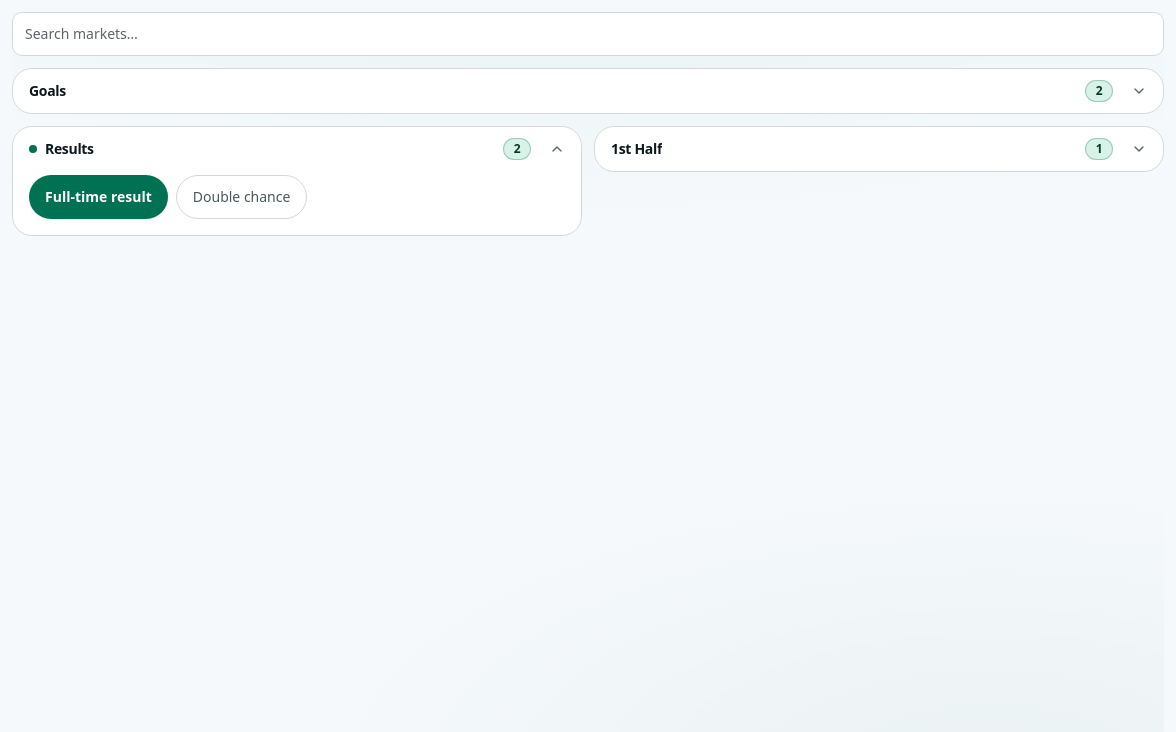
Test case: MarketSelector › keeps multiple groups open at a time
The width and height of the screenshot is (1176, 732).
Expected: the button "Double chance" is shown, [176, 175, 307, 219]
Click the text "Goals" at (47, 91), box [29, 81, 66, 101]
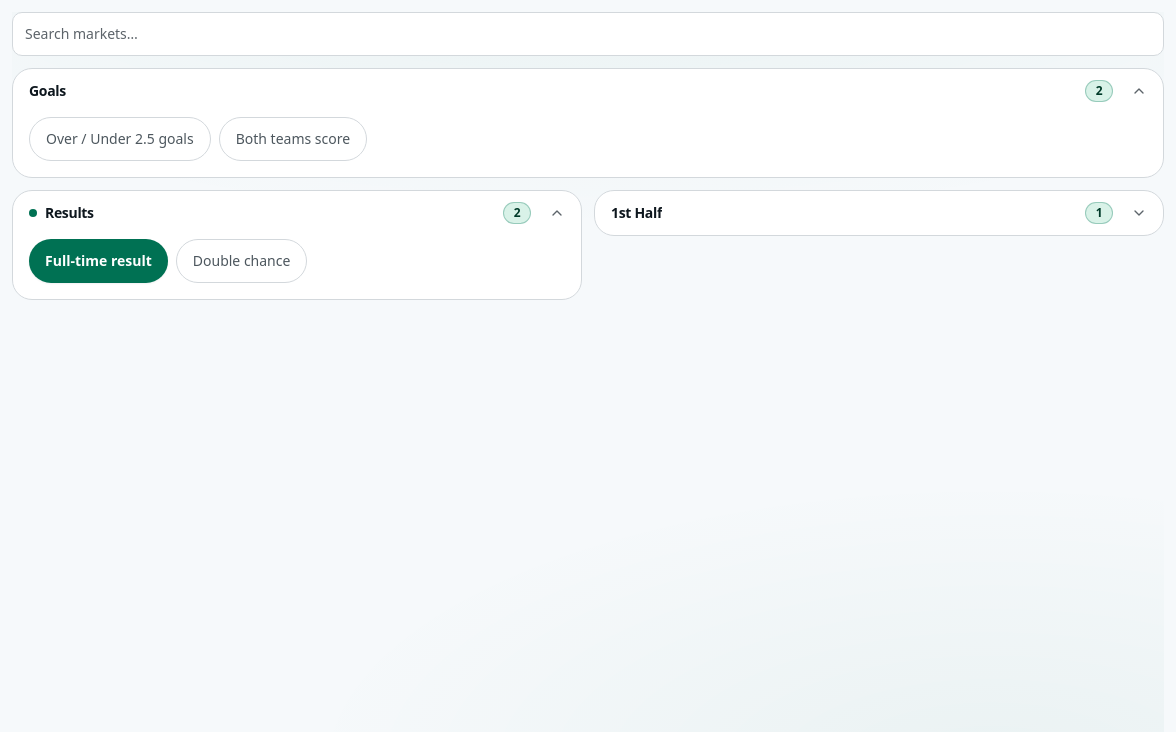
Expected: the button "Double chance" is shown, [176, 239, 307, 283]
Expected: the button "Over / Under 2.5 goals" is shown, [29, 117, 211, 161]
